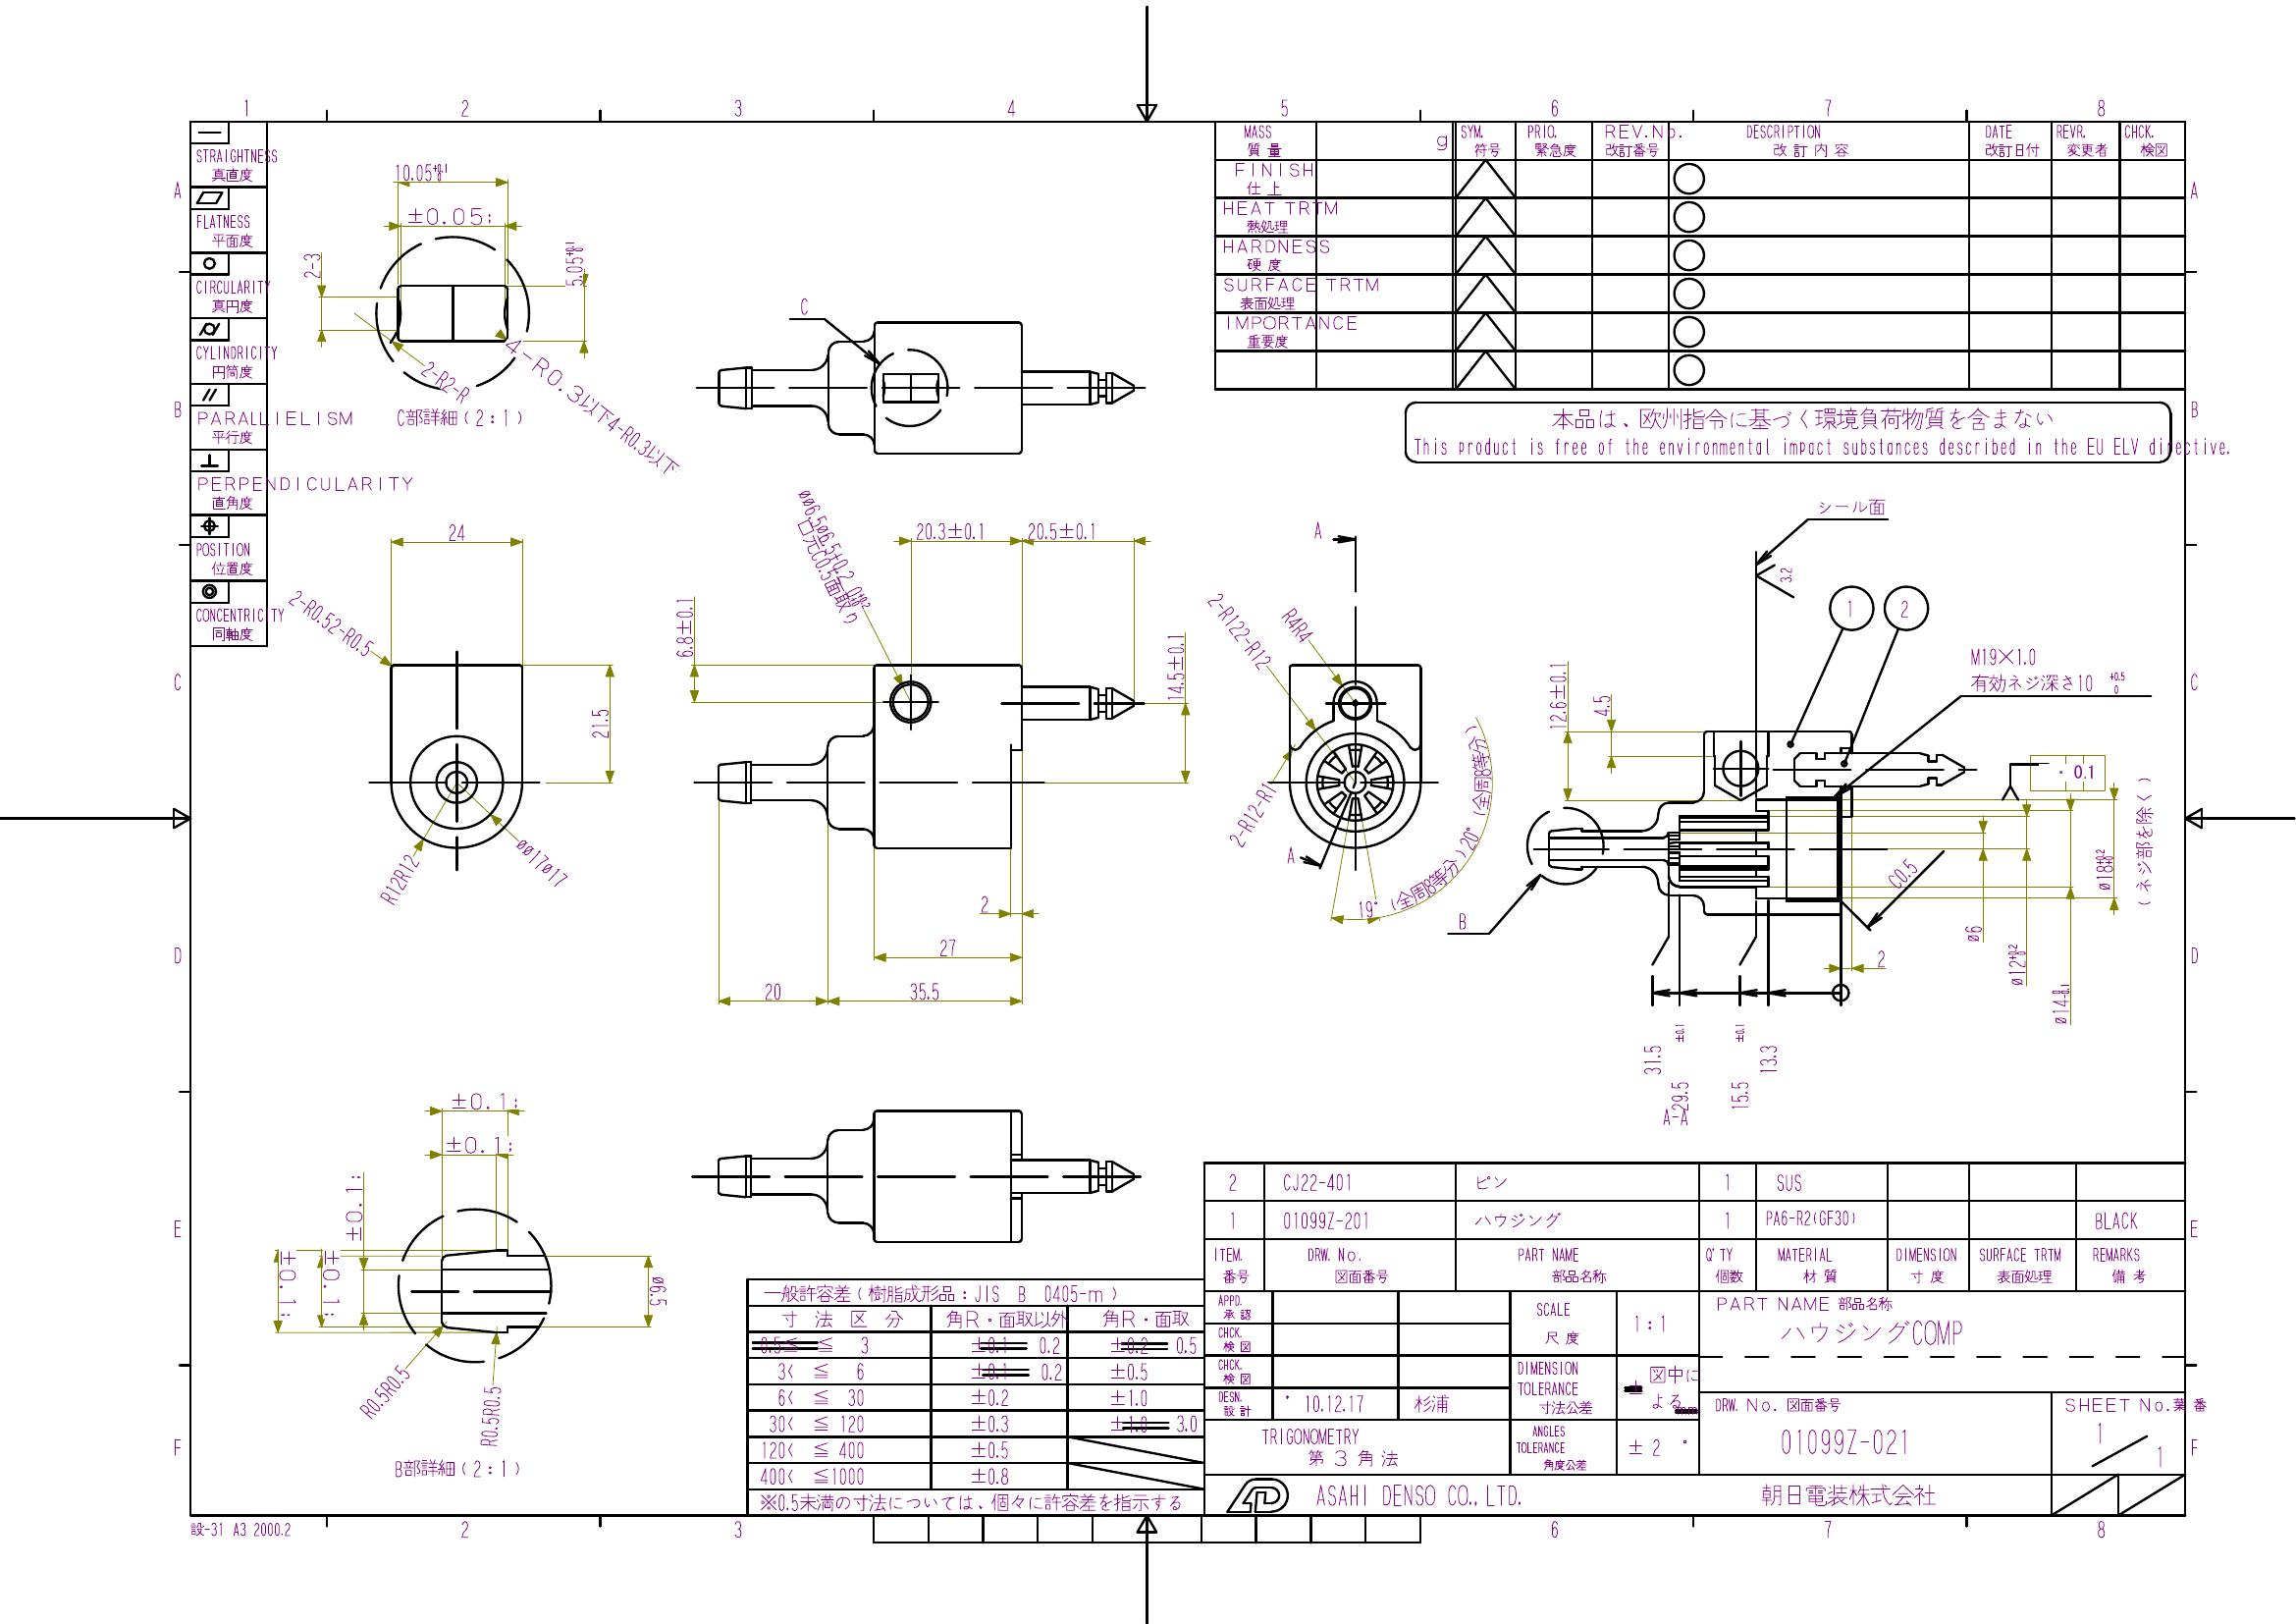anntotation_text: (1404, 399, 2173, 464), (392, 401, 527, 432), (392, 1454, 525, 1483), (2131, 773, 2155, 907), (191, 1515, 297, 1541), (1383, 870, 1476, 898), (1430, 756, 1525, 782), (1827, 585, 1874, 631), (1883, 584, 1929, 631), (1815, 496, 1890, 520), (1660, 1107, 1692, 1127), (794, 294, 812, 316), (1456, 905, 1470, 933), (1309, 518, 1325, 540), (1284, 845, 1296, 865)
dimension_text: (1966, 642, 2129, 694), (487, 395, 706, 420), (755, 538, 899, 575), (1228, 580, 1254, 677), (1667, 1019, 1693, 1111), (1727, 1019, 1751, 1111), (279, 610, 379, 631), (404, 202, 494, 225), (1238, 779, 1265, 854), (1541, 657, 1567, 729), (393, 155, 453, 185), (341, 1169, 364, 1244), (1028, 518, 1100, 541), (1165, 631, 1188, 701), (446, 1090, 522, 1111), (413, 369, 478, 392), (915, 522, 991, 541), (511, 849, 574, 872), (348, 1381, 415, 1403), (559, 236, 585, 288), (321, 1250, 341, 1320), (673, 596, 694, 659), (278, 1250, 297, 1318), (443, 1135, 515, 1153), (1284, 605, 1314, 647), (480, 1383, 499, 1448), (2089, 844, 2113, 895), (371, 868, 429, 889), (2006, 935, 2025, 988), (2048, 977, 2069, 1025), (1755, 1037, 1781, 1074), (1639, 1042, 1665, 1077), (2055, 761, 2099, 780), (587, 705, 611, 738), (646, 1274, 668, 1311), (1592, 685, 1613, 721), (300, 248, 323, 279), (905, 981, 942, 1000), (1456, 824, 1479, 852), (1354, 893, 1377, 919), (443, 522, 471, 543), (936, 933, 961, 956), (761, 979, 785, 1000), (1776, 562, 1797, 585), (1962, 919, 1982, 942), (1874, 944, 1888, 967), (978, 893, 991, 914)
object: (1523, 729, 1967, 916), (717, 663, 1137, 849), (717, 322, 1133, 453), (718, 1113, 1142, 1241), (1289, 663, 1423, 847), (390, 661, 520, 849), (372, 237, 531, 390), (397, 1207, 550, 1360)
title_block: (1203, 1160, 2184, 1517), (1214, 121, 2189, 392), (747, 1278, 1203, 1517), (190, 121, 269, 649)
